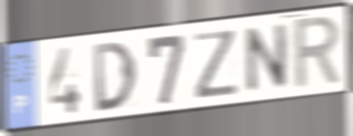4: (47, 45, 83, 118)
7: (145, 32, 187, 107)
D: (91, 39, 140, 115)
N: (243, 20, 291, 96)
R: (292, 12, 344, 94)
Z: (192, 28, 242, 102)
